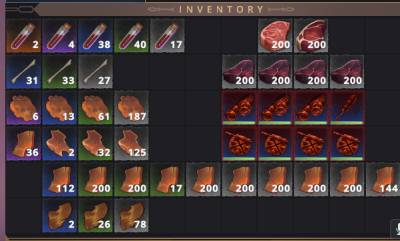blood: (6, 18, 41, 52), (78, 19, 113, 52), (43, 18, 76, 52), (115, 19, 148, 52), (151, 19, 184, 52)
bone: (42, 56, 76, 88), (79, 55, 113, 87), (7, 55, 40, 87)
durable hide: (114, 198, 148, 232), (42, 198, 76, 231), (78, 198, 112, 231)
soft hide: (78, 90, 112, 124), (7, 90, 40, 123), (43, 90, 76, 123), (115, 91, 147, 125)
strong hide: (149, 163, 185, 195), (78, 162, 112, 195), (294, 163, 328, 196), (42, 162, 76, 194), (258, 164, 292, 196), (367, 162, 399, 196), (187, 163, 220, 195), (223, 163, 256, 195), (331, 163, 363, 196), (8, 126, 40, 158), (115, 163, 147, 194)
tough hide: (43, 125, 77, 159), (79, 126, 113, 160), (115, 126, 148, 159)
